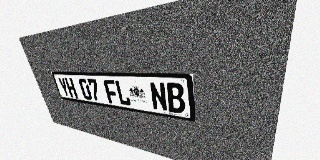0: (78, 78, 93, 100)
7: (87, 79, 102, 102)
B: (165, 82, 186, 114)
F: (103, 80, 119, 104)
H: (64, 78, 78, 98)
L: (114, 80, 131, 106)
N: (149, 82, 168, 112)
Y: (57, 77, 71, 97)
